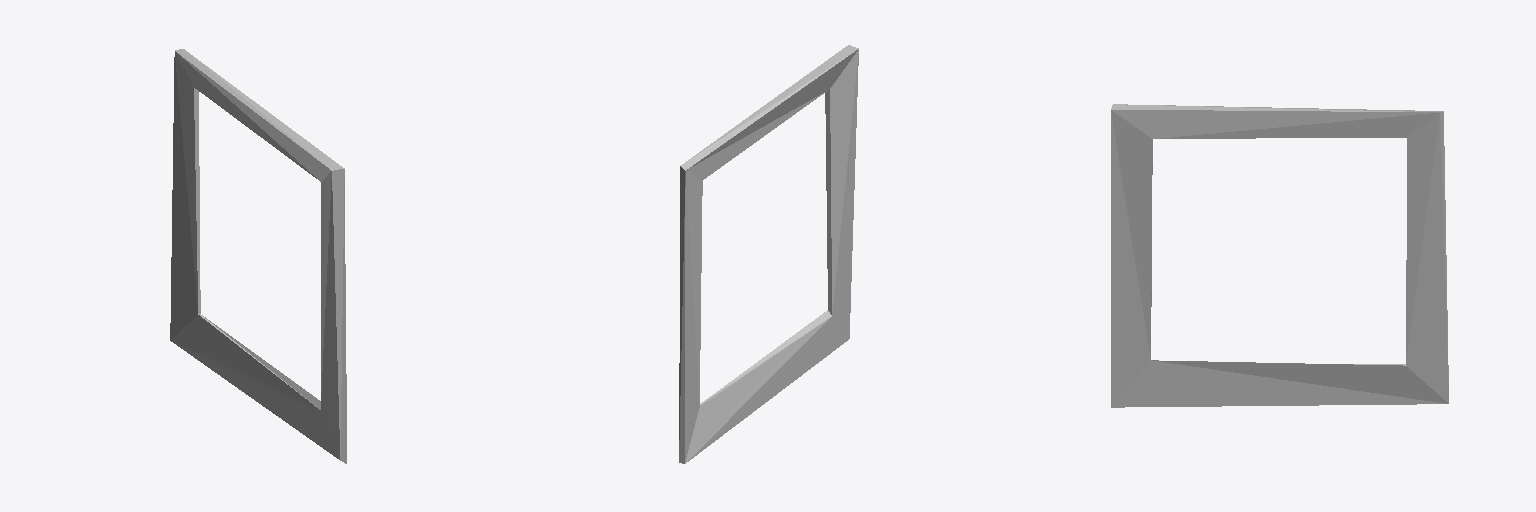
The model's file is Frame3.obj.
3 views of the same model, side by side, from view 1: azimuth 30°, elevation 25°; view 2: azimuth 150°, elevation 25°; view 3: azimuth 270°, elevation 25° (orthographic).
Visible parts, largest first — view 1: Plane.001; view 2: Plane.001; view 3: Plane.001.
Boxes of the visible parts, x1=… form: Plane.001: x1=170, y1=49, x2=346, y2=463; Plane.001: x1=679, y1=45, x2=858, y2=463; Plane.001: x1=1111, y1=104, x2=1448, y2=407.
Bounding box in the file's own units: 1.87 × 35.05 × 36.24.